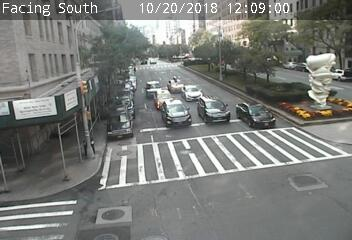car: (235, 102, 277, 127), (196, 97, 231, 124), (161, 100, 195, 125), (155, 88, 176, 107), (182, 85, 202, 99), (168, 75, 183, 92), (146, 79, 160, 96)
